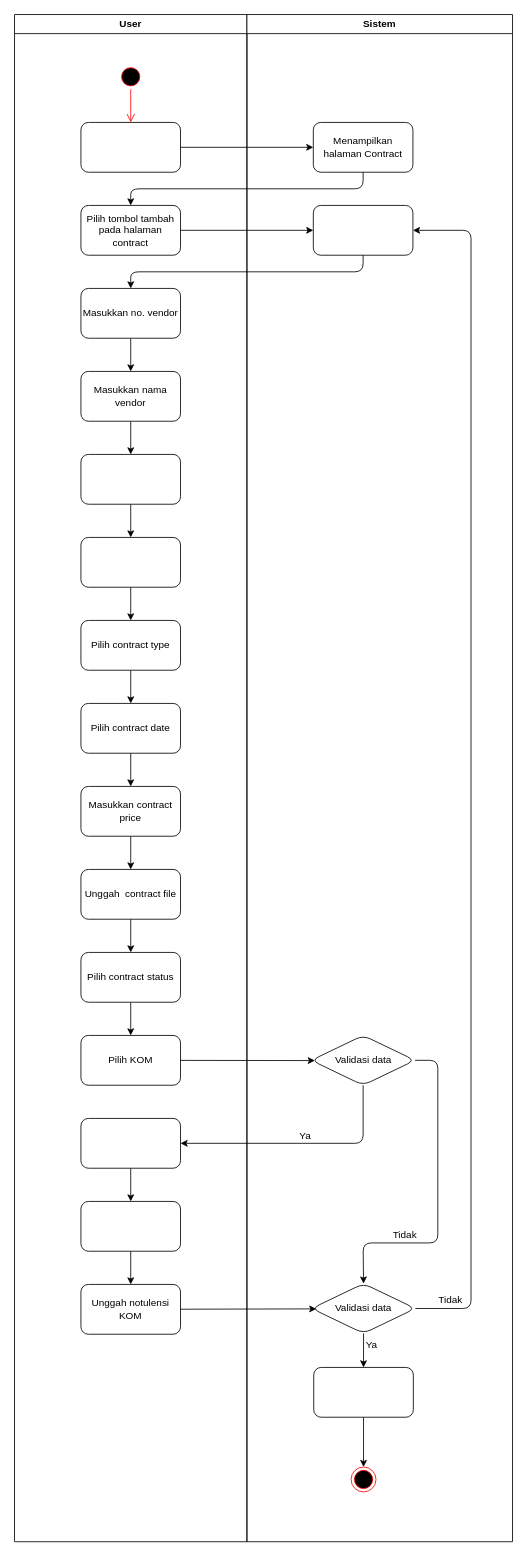
Image size: 527x1556. Some labels were removed from this diagram. The shapes that lost their labels are listed below. From the top down, each one's box as (x1, y1, x2, y2) in pixels, then its label:
(80, 122, 181, 172): Membuka halaman Contract
(312, 205, 413, 255): Menampilkan halaman tambah data
(80, 454, 181, 504): Masukkan no. contract
(80, 537, 181, 587): Masukkan nama contract
(80, 1118, 181, 1168): Pilih kontrak mulai
(80, 1201, 181, 1251): Pilih kontrak berakhir
(313, 1367, 413, 1417): Menyimpan data contract
